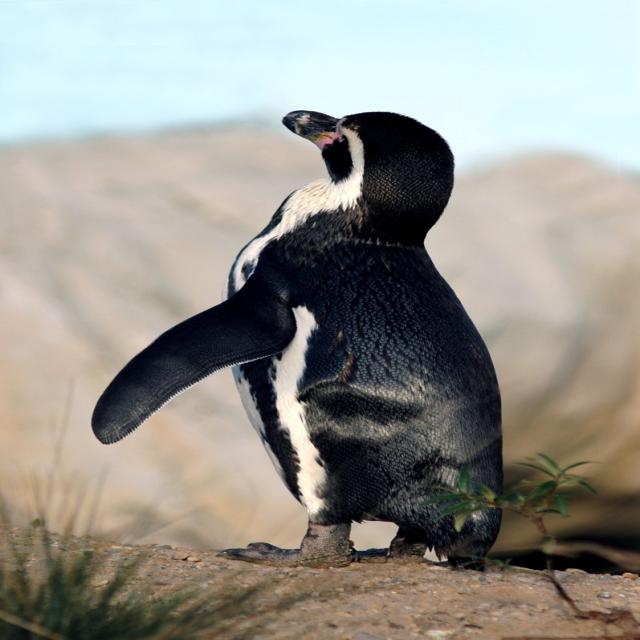Penguins: (146, 106, 508, 578)
